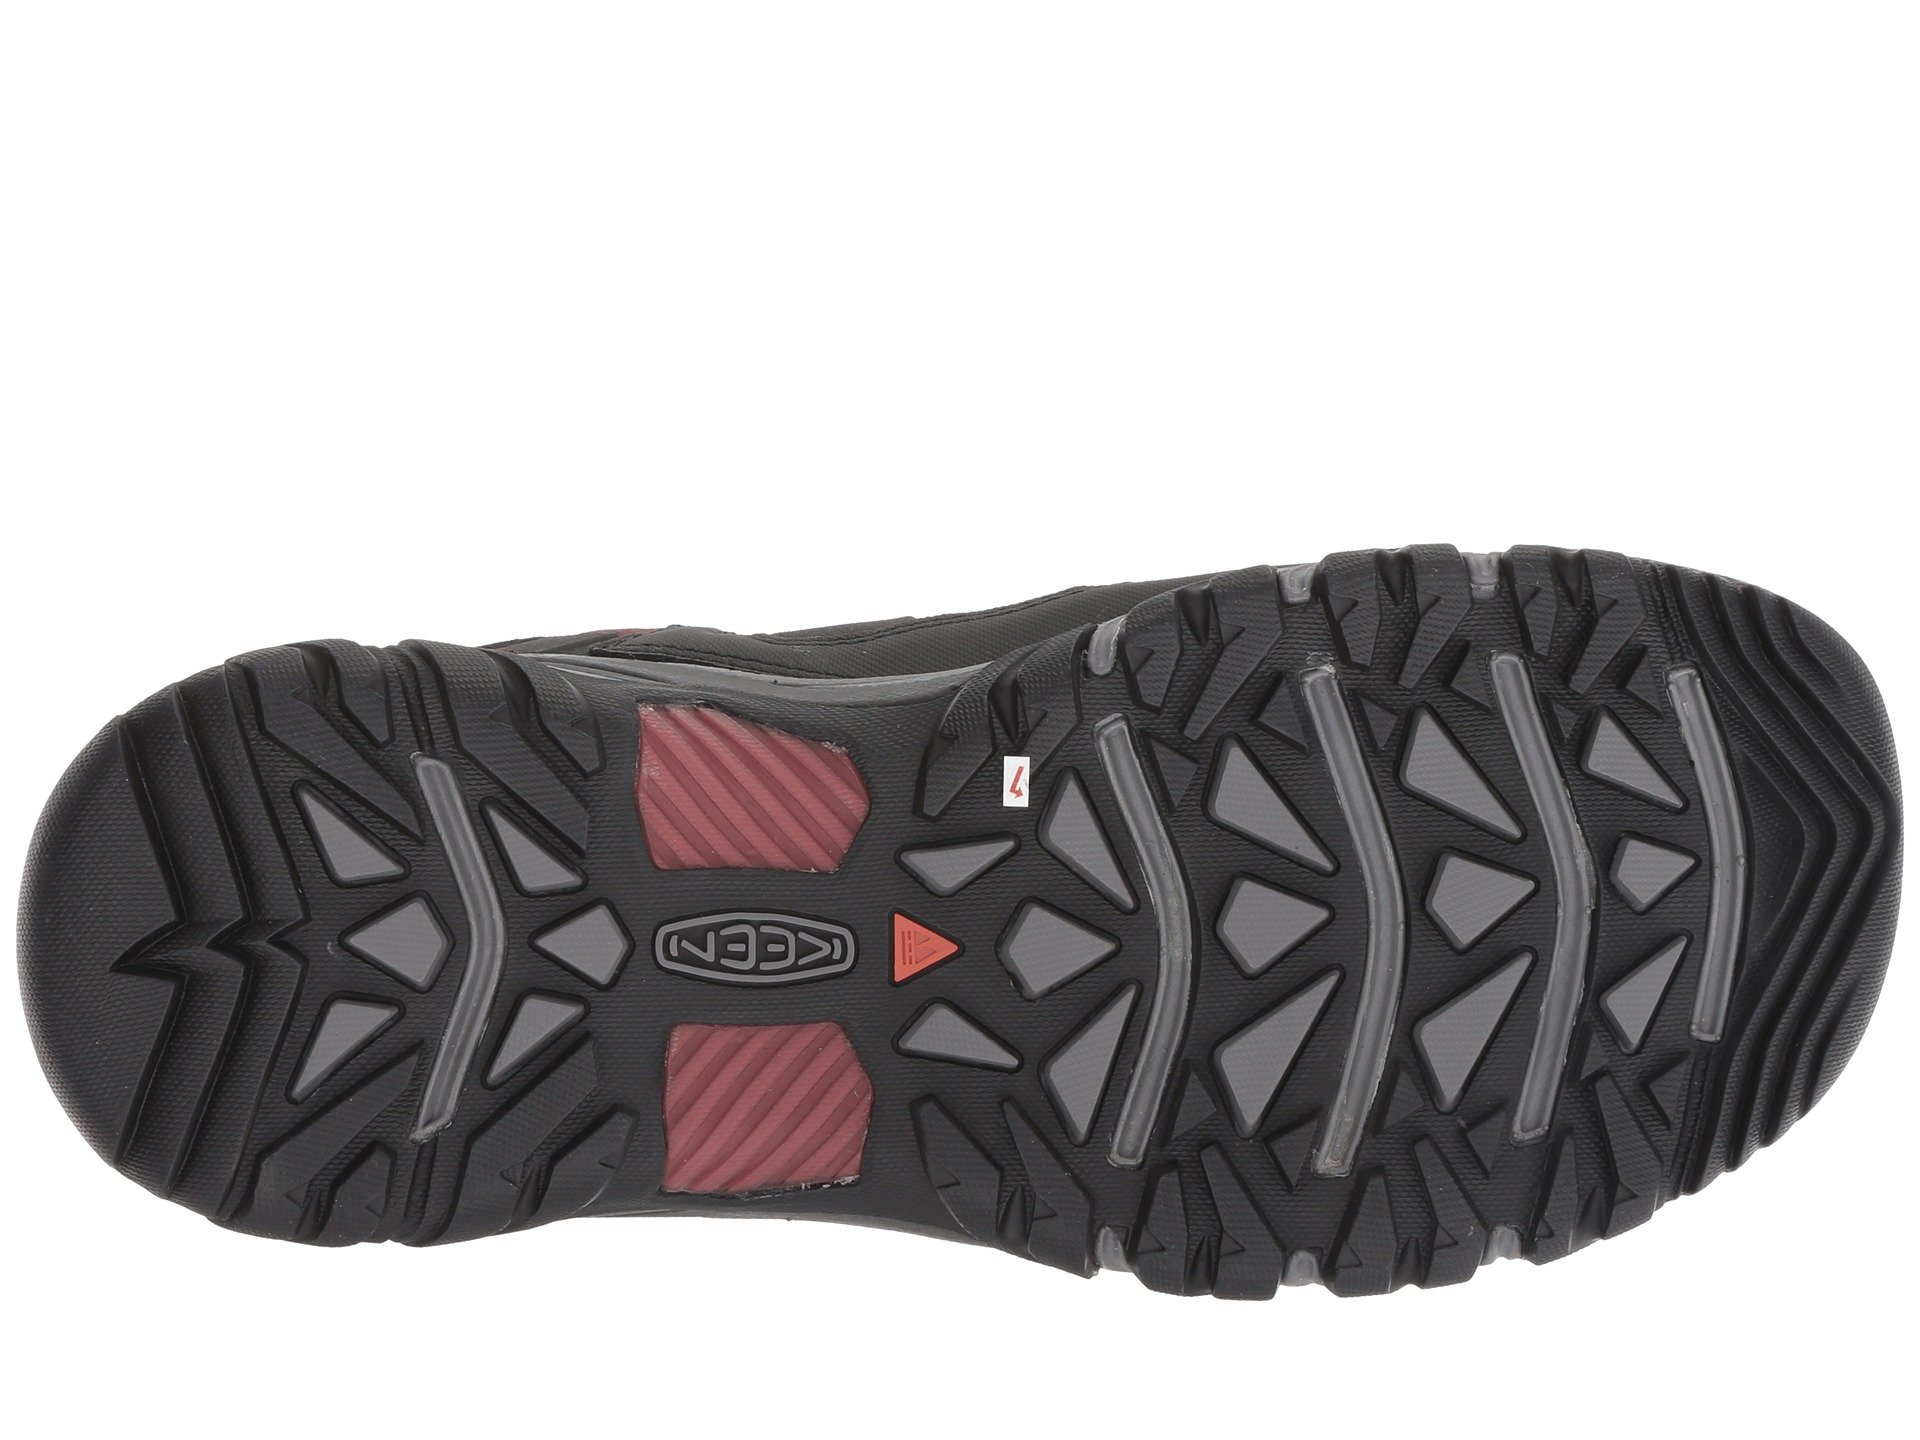chevron: (1760, 723, 1876, 945)
line: (647, 718, 813, 846), (711, 1056, 848, 1168)
quad: (1391, 694, 1533, 1115), (1193, 737, 1341, 1131), (476, 787, 639, 1098), (1581, 703, 1695, 1051), (647, 898, 869, 1001)
text: (647, 898, 869, 1001)
triangle: (1391, 694, 1533, 1115), (1193, 737, 1341, 1131), (476, 787, 639, 1098), (1581, 703, 1695, 1051), (1042, 973, 1141, 1153), (1036, 770, 1147, 924), (278, 995, 422, 1107), (272, 790, 434, 880), (900, 991, 1033, 1098), (893, 814, 1031, 900)
